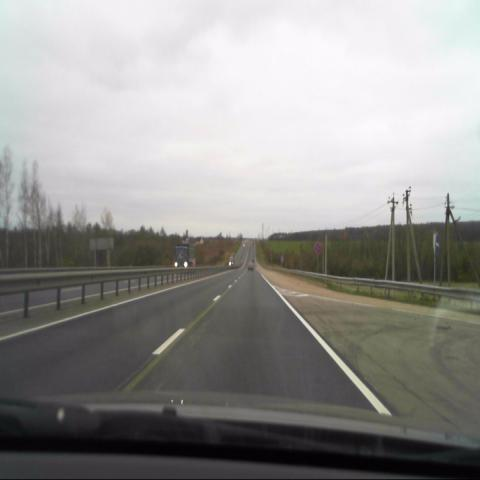4_1_2_1: (432, 231, 441, 257)
